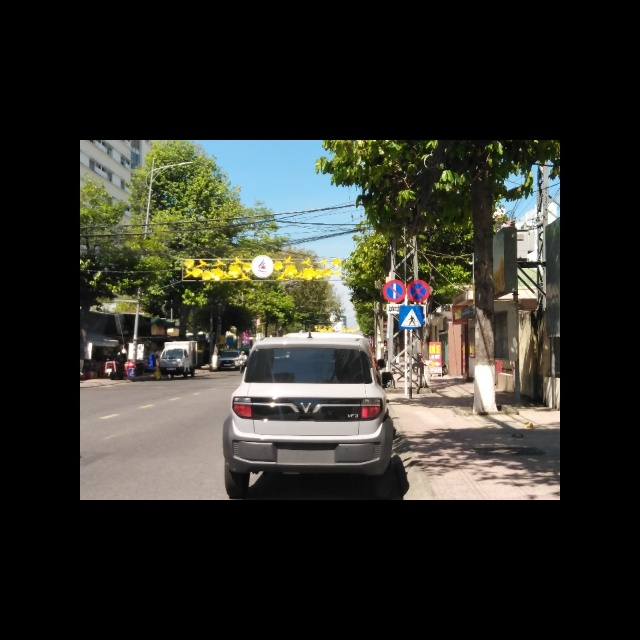Cấm dừng xe và đỗ xe: (407, 280, 430, 303)
Cấm đỗ xe ngày lẻ: (383, 279, 406, 303)
Đường dành cho người đi bộ: (400, 306, 424, 330)
